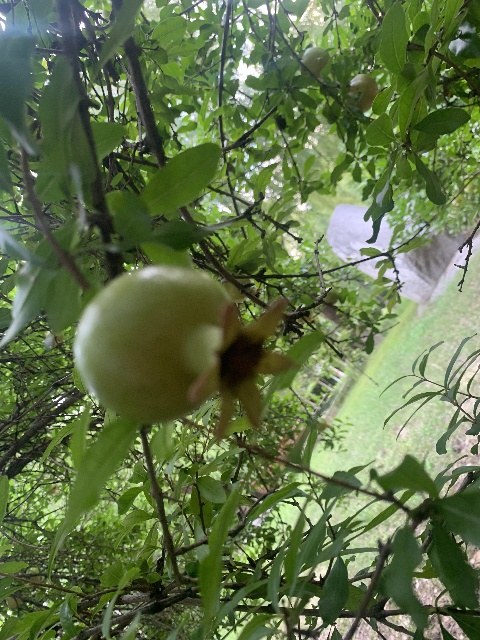mid-growth: (72, 263, 297, 443), (345, 73, 388, 111), (302, 46, 329, 78)
